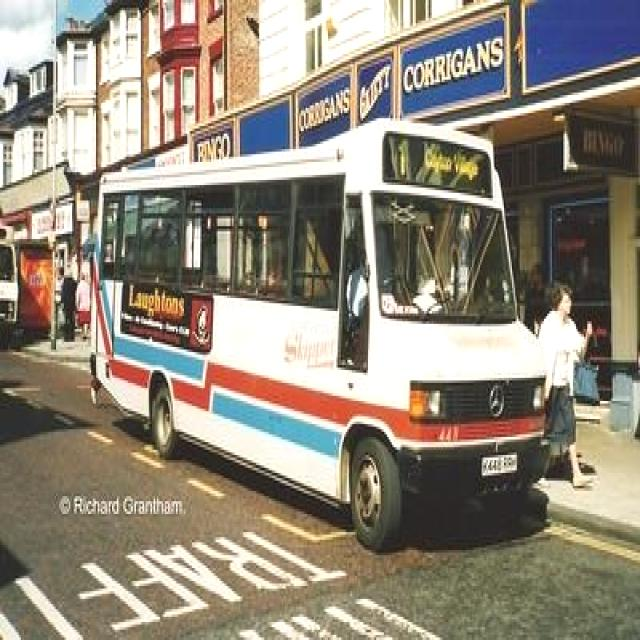Bus: (80, 107, 556, 545)
